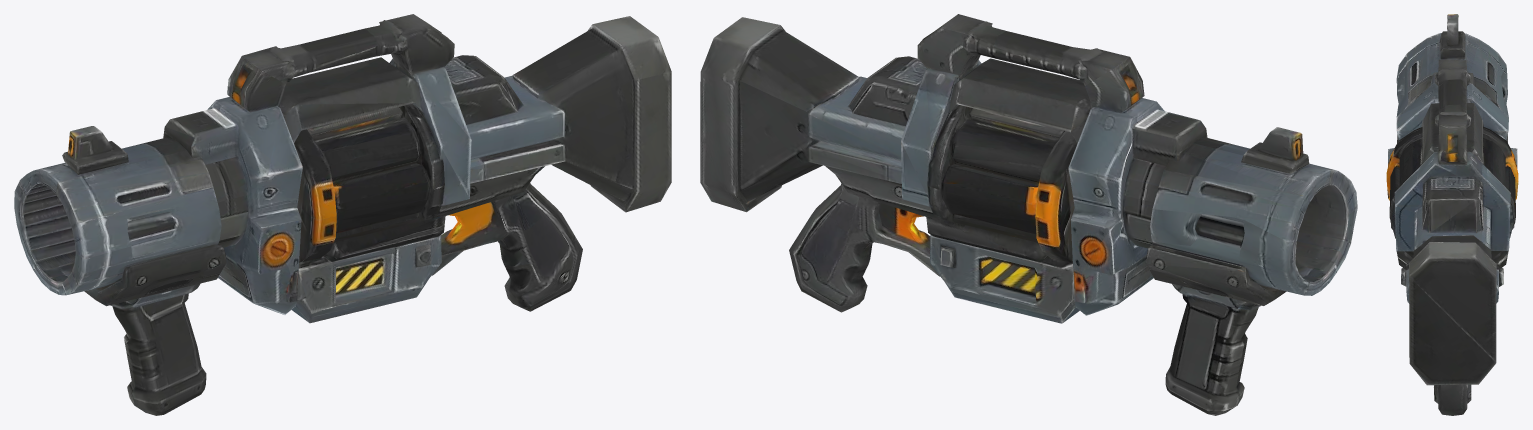
Rendered from grenade_launcher.glb.
3 renders of one model, left to right at view 1: azimuth 30°, elevation 25°; view 2: azimuth 150°, elevation 25°; view 3: azimuth 270°, elevation 25°, orthographic. The views are drawn at different scales.
Visible parts, largest first — view 1: mesh_node; view 2: mesh_node; view 3: mesh_node.
Boxes of the visible parts, <box> form: mesh_node: <box>14,14,671,415</box>; mesh_node: <box>700,14,1357,415</box>; mesh_node: <box>1386,14,1518,415</box>.
Bounding box in the file's own units: 1 × 0.5253 × 0.2451.
Materials: 1 (1 with a texture image).
